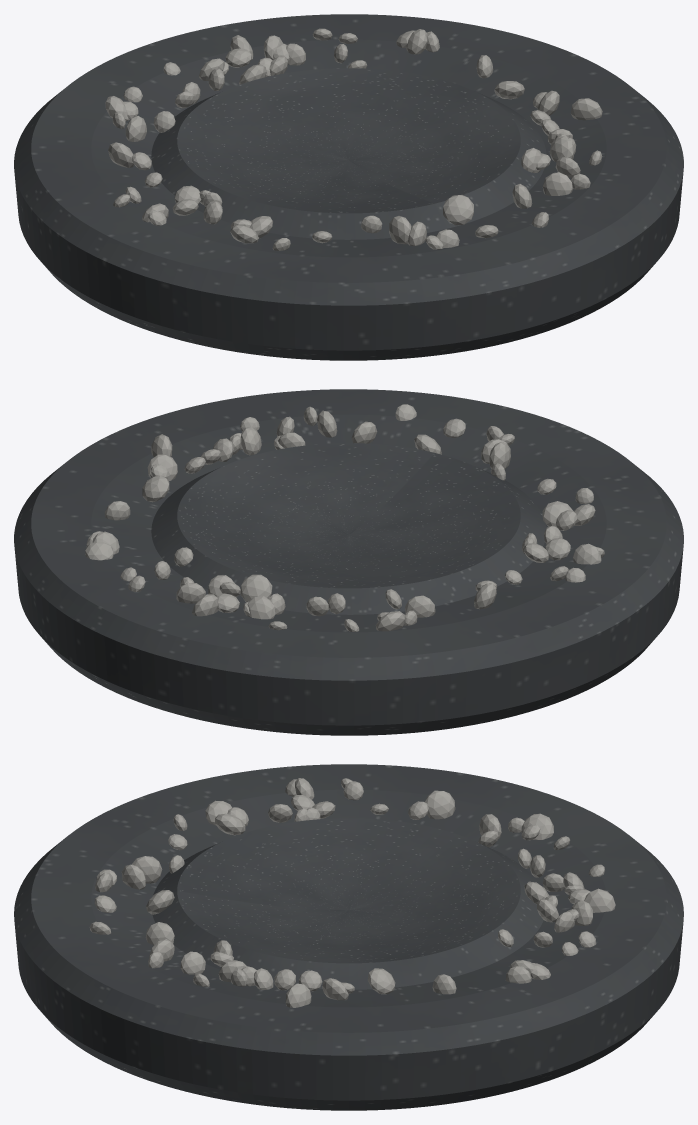
Rendered from cradle_moss.glb.
3 renders of one model, top to bottom at view 1: azimuth 30°, elevation 25°; view 2: azimuth 150°, elevation 25°; view 3: azimuth 270°, elevation 25°, orthographic.
Parts seen in each view (by area): view 1: part0, part1; view 2: part0, part1; view 3: part0, part1.
Boxes of the visible parts, <box> form: part0: <box>14,14,683,360</box>; part1: <box>105,28,602,250</box>; part0: <box>14,389,683,735</box>; part1: <box>85,404,604,631</box>; part0: <box>14,764,683,1110</box>; part1: <box>89,778,615,1007</box>.
Size of the model in its own units: 0.156 by 0.0247 by 0.156.
2 materials, 1 textured.
